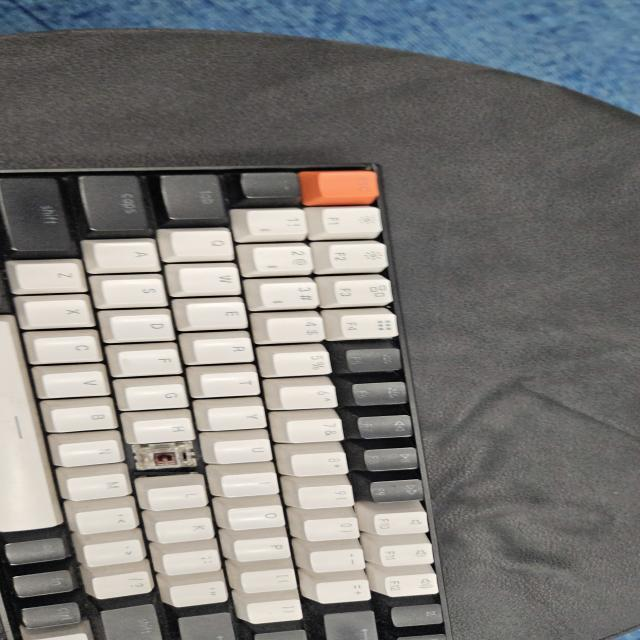C: (134, 444, 197, 472), (134, 446, 194, 475)
